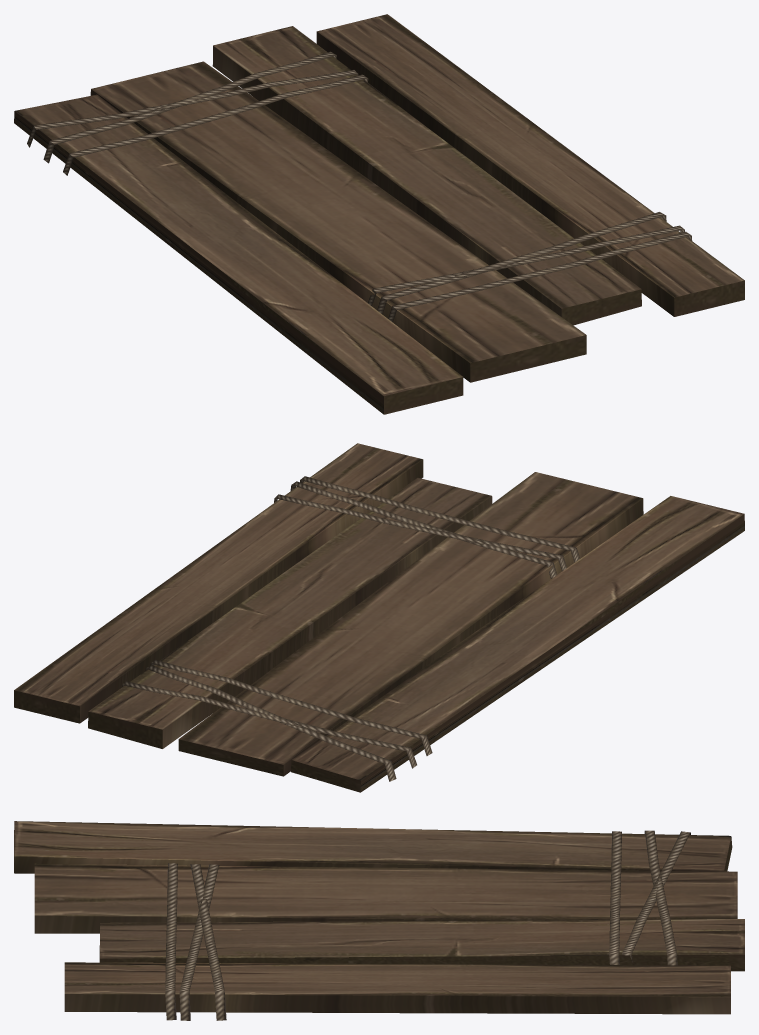
Rendered from fld_qiao03_z.FBX.
3 views of the same model, one above another, from view 1: azimuth 30°, elevation 25°; view 2: azimuth 150°, elevation 25°; view 3: azimuth 270°, elevation 25° (orthographic). The views are drawn at different scales.
Visible parts, largest first — view 1: fld_qiao03_z; view 2: fld_qiao03_z; view 3: fld_qiao03_z.
Boxes of the visible parts, x1,y1,x2,y2 form: fld_qiao03_z: (14,14,744,414); fld_qiao03_z: (14,443,744,792); fld_qiao03_z: (14,821,744,1020).
Bounding box in the file's own units: 39.07 × 2.9 × 68.3.
